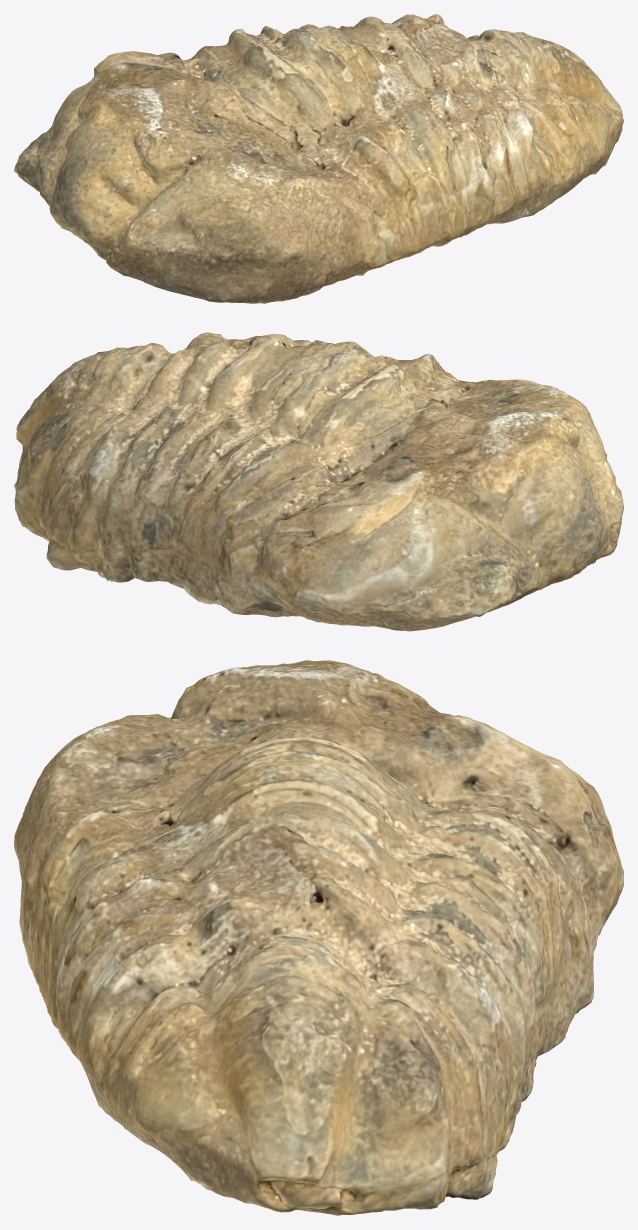
Rendered from trilobite.glb.
3 views of the same model, one above another, from view 1: azimuth 30°, elevation 25°; view 2: azimuth 150°, elevation 25°; view 3: azimuth 270°, elevation 25° (orthographic). The views are drawn at different scales.
Visible parts, largest first — view 1: Object_2; view 2: Object_2; view 3: Object_2.
Boxes of the visible parts, left/top/right/bottom form: Object_2: left=14, top=14, right=623, bottom=303; Object_2: left=14, top=332, right=623, bottom=631; Object_2: left=14, top=660, right=623, bottom=1215.
Size of the model in its own units: 2.74 by 0.9809 by 1.8.
Materials: 1 (1 with a texture image).
